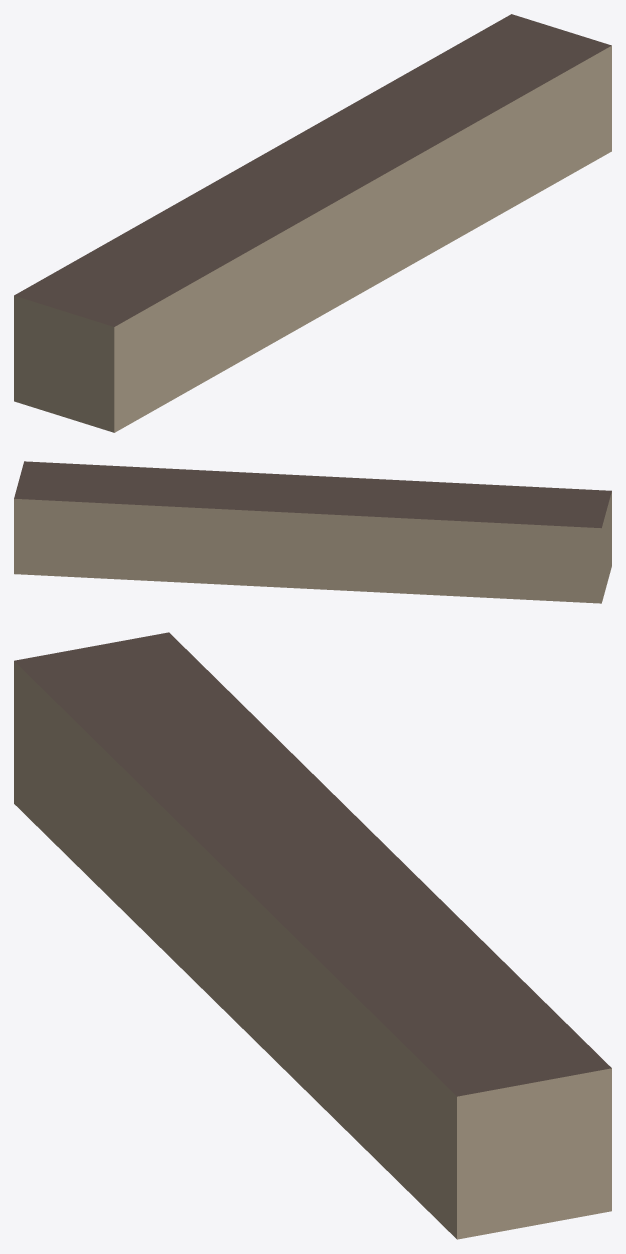
3 views of the same model, one above another, from view 1: azimuth 30°, elevation 25°; view 2: azimuth 150°, elevation 25°; view 3: azimuth 270°, elevation 25° (orthographic). The views are drawn at different scales.
Parts seen in each view (by area): view 1: HP-w1544735750; view 2: HP-w1544735750; view 3: HP-w1544735750.
Part boxes in pixels (box(x1,y1,x2,y2)): HP-w1544735750: box(14, 14, 611, 432); HP-w1544735750: box(14, 461, 611, 603); HP-w1544735750: box(14, 632, 611, 1239).
Bounding box in the file's own units: 62.68 × 9 × 34.12.
